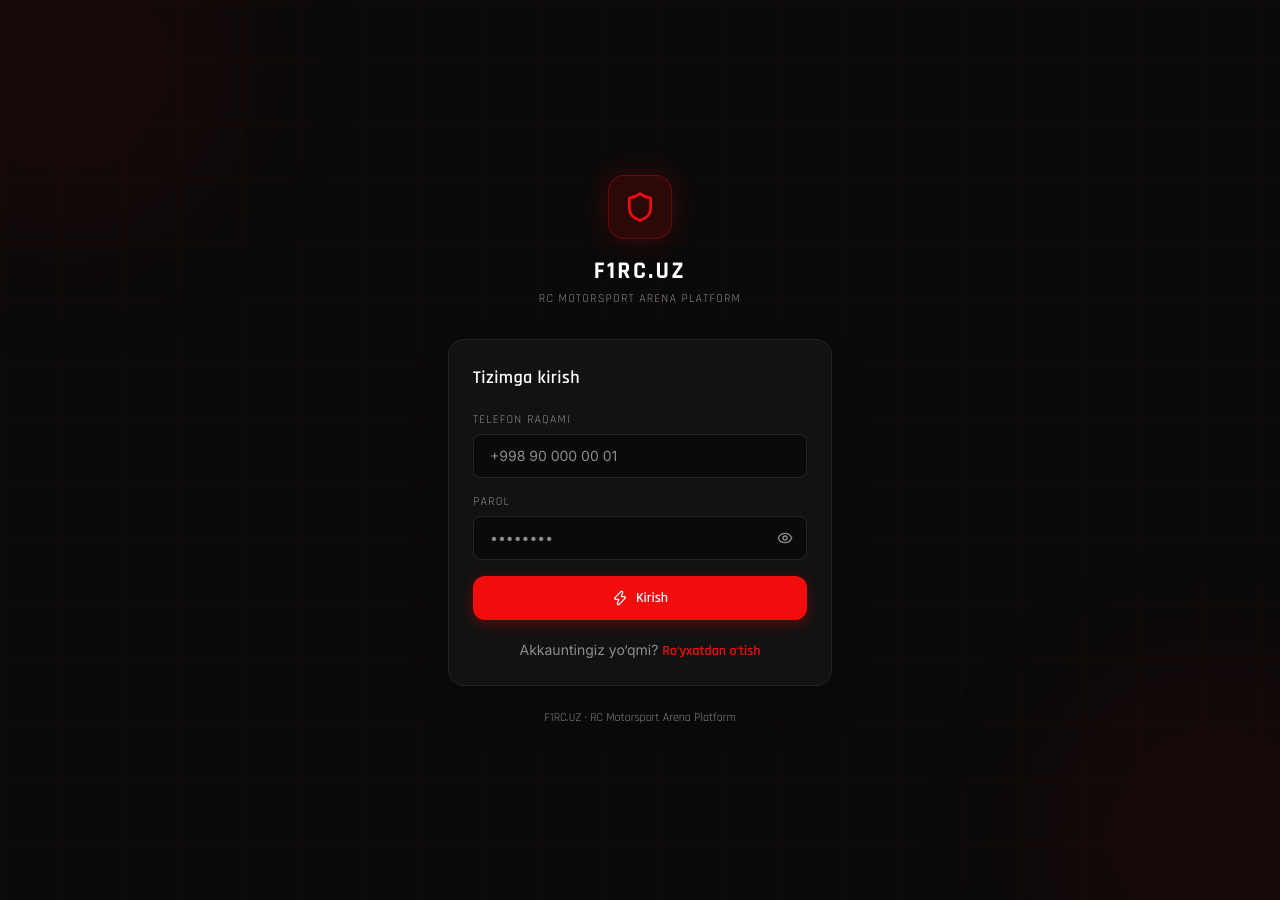
it: Login Form tests › displays error messages when fields are submitted empty
# Click submit
Click the button "Kirish": {"x": 640, "y": 598} [473,576,807,620]
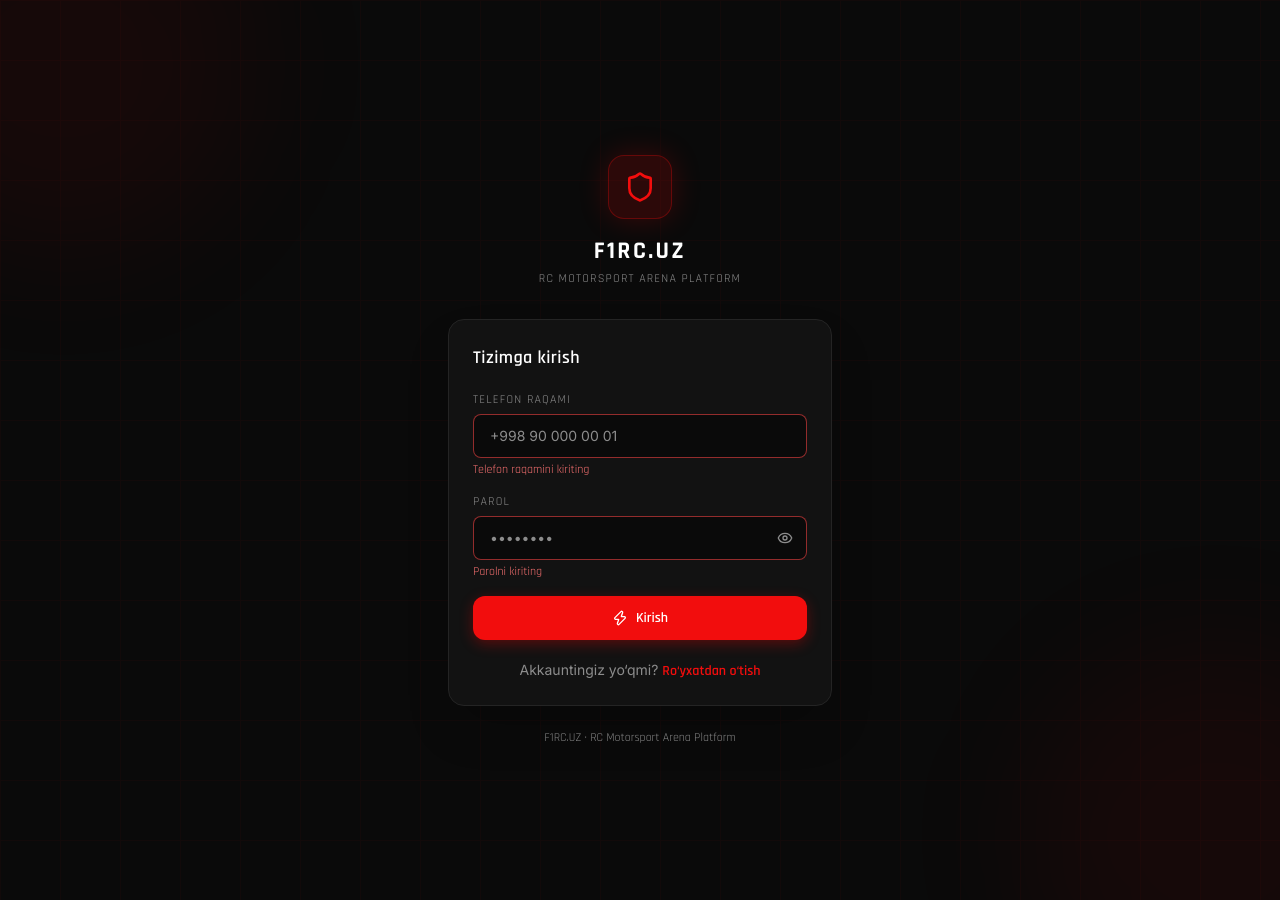
Check: the text "Telefon raqamini kiriting" is shown, box [473,462,589,476]
Check: the text "Parolni kiriting" is shown, box [473,564,542,578]
